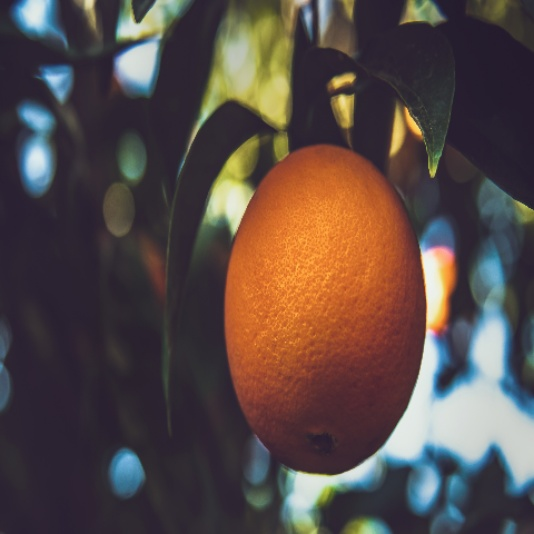orange: (203, 139, 468, 487)
